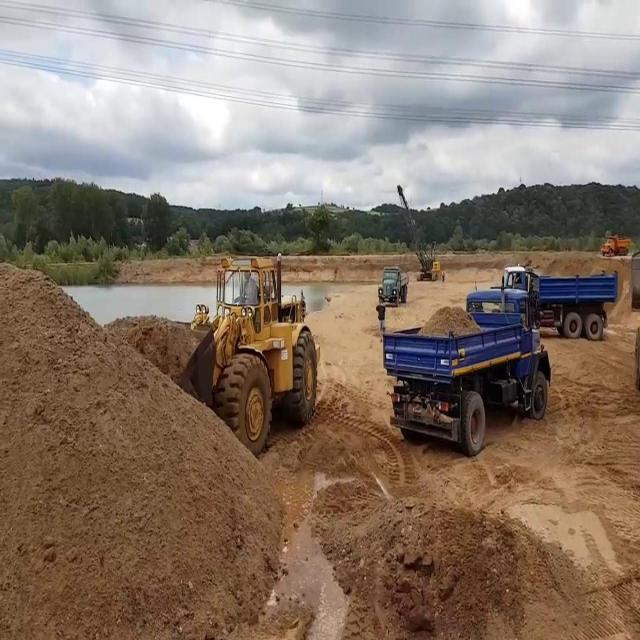Dump Truck: (382, 289, 550, 451), (500, 264, 618, 342), (376, 261, 409, 306), (603, 230, 627, 257)
Loader: (150, 245, 322, 458)
Mobile Crane: (396, 183, 442, 282)
